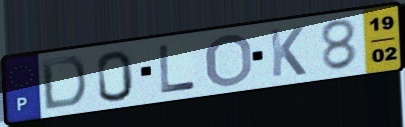0: (94, 48, 136, 104)
8: (318, 17, 359, 72)
D: (39, 55, 89, 113)
K: (267, 24, 309, 79)
L: (156, 43, 197, 95)
O: (204, 32, 255, 89)
